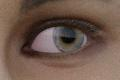eye: (55, 27, 84, 51)
